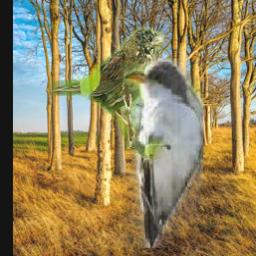Cuckoo: (124, 58, 203, 248)
Sparrow: (49, 27, 164, 151)
